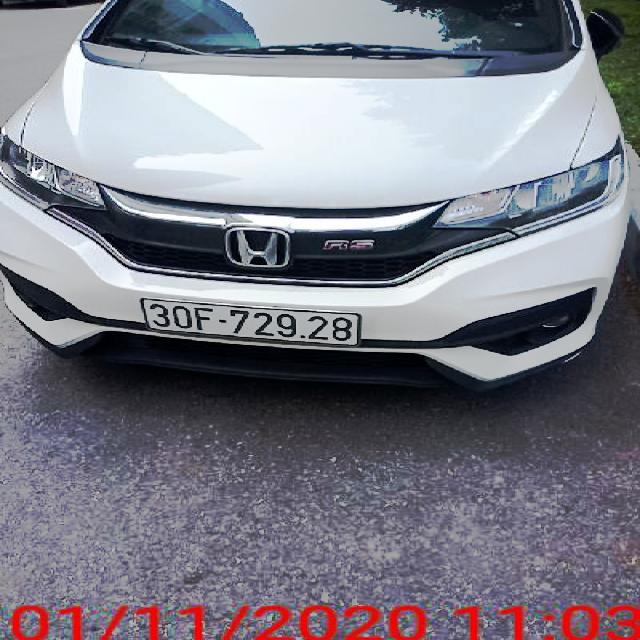license_plate: (143, 298, 364, 347)
